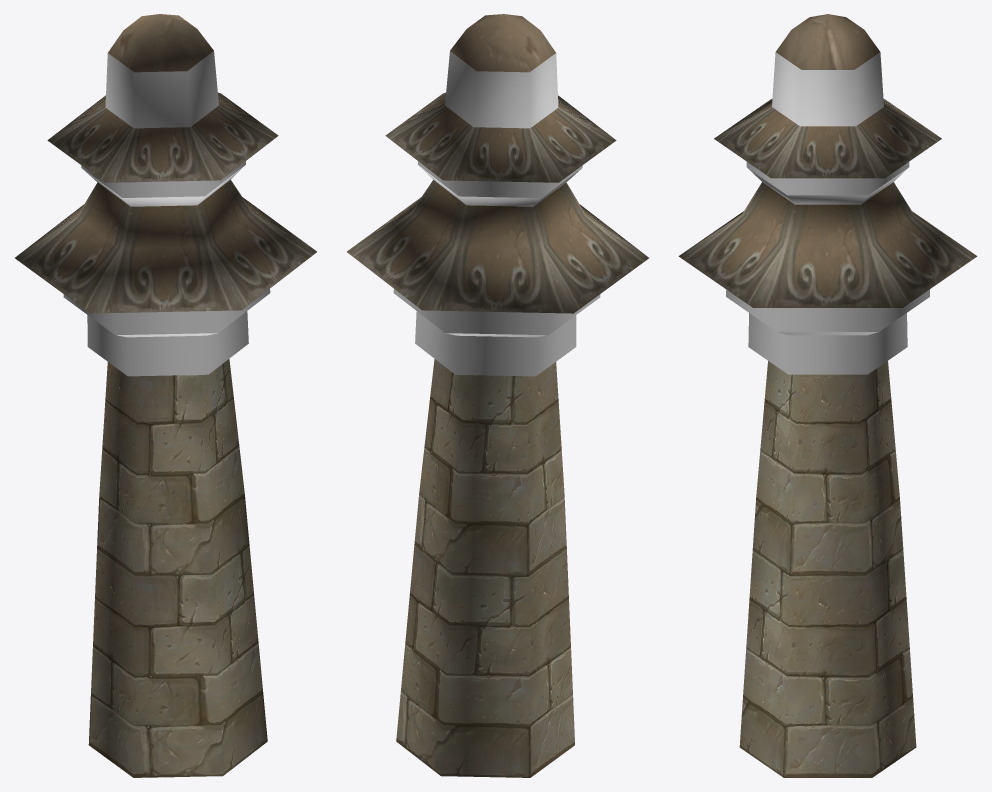
File: undercitytower03.obj
3 views of the same model, side by side, from view 1: azimuth 30°, elevation 25°; view 2: azimuth 150°, elevation 25°; view 3: azimuth 270°, elevation 25° (orthographic).
Parts seen in each view (by area): view 1: UNDERCITYTOWER030, UNDERCITYTOWER033, UNDERCITYTOWER032, UNDERCITYTOWER031; view 2: UNDERCITYTOWER030, UNDERCITYTOWER033, UNDERCITYTOWER032, UNDERCITYTOWER031; view 3: UNDERCITYTOWER030, UNDERCITYTOWER033, UNDERCITYTOWER032, UNDERCITYTOWER031.
Part boxes in pixels (x1,y1,x2,y2): UNDERCITYTOWER030: (88,359,267,777); UNDERCITYTOWER033: (15,14,316,313); UNDERCITYTOWER032: (87,51,248,376); UNDERCITYTOWER031: (63,161,270,337); UNDERCITYTOWER030: (396,359,574,777); UNDERCITYTOWER033: (347,14,648,313); UNDERCITYTOWER032: (415,51,576,376); UNDERCITYTOWER031: (393,161,600,337); UNDERCITYTOWER030: (739,361,916,777); UNDERCITYTOWER033: (678,14,977,307); UNDERCITYTOWER032: (748,52,907,374); UNDERCITYTOWER031: (726,162,929,335).
Bounding box in the file's own units: 10.31 × 31.91 × 11.91.
